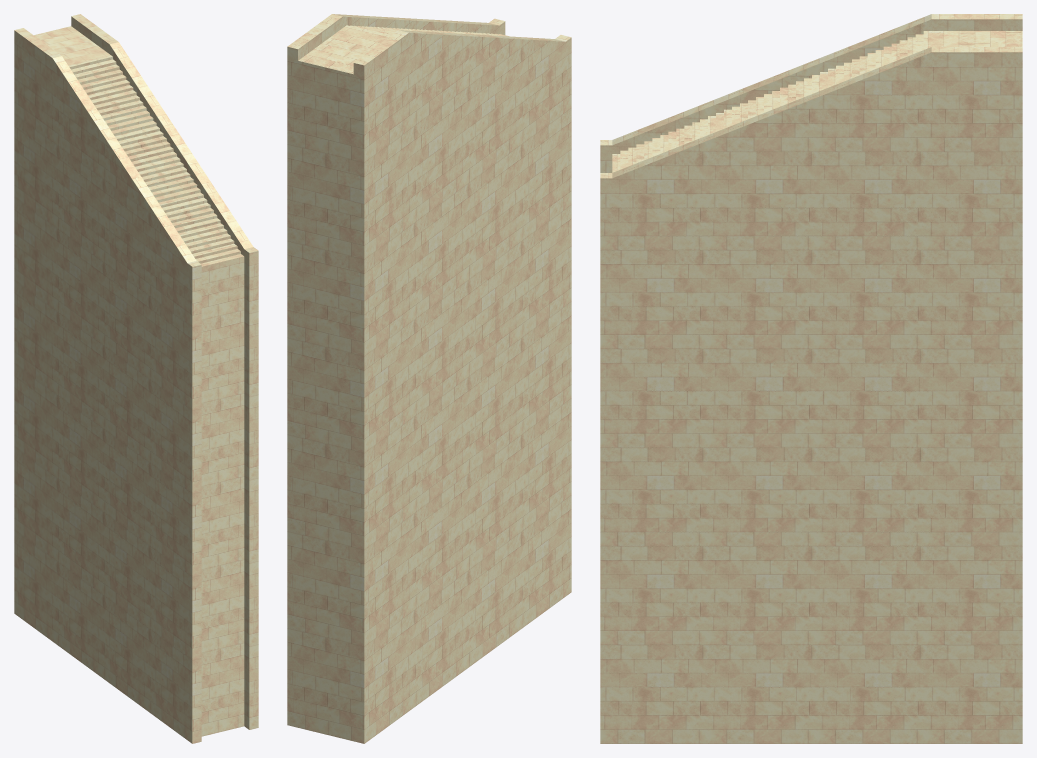
File: SM_stairs.glb
The picture shows the model from 3 angles, left to right: view 1: azimuth 30°, elevation 25°; view 2: azimuth 150°, elevation 25°; view 3: azimuth 270°, elevation 25°; orthographic projection. The views are drawn at different scales.
Visible parts, largest first — view 1: SM_stairs; view 2: SM_stairs; view 3: SM_stairs.
Boxes of the visible parts, bbox=[...] form: SM_stairs: bbox=[14, 14, 258, 743]; SM_stairs: bbox=[287, 14, 571, 743]; SM_stairs: bbox=[600, 14, 1022, 743].
Bounding box in the file's own units: 3.34 × 28.06 × 15.54.
1 material, 1 textured.
